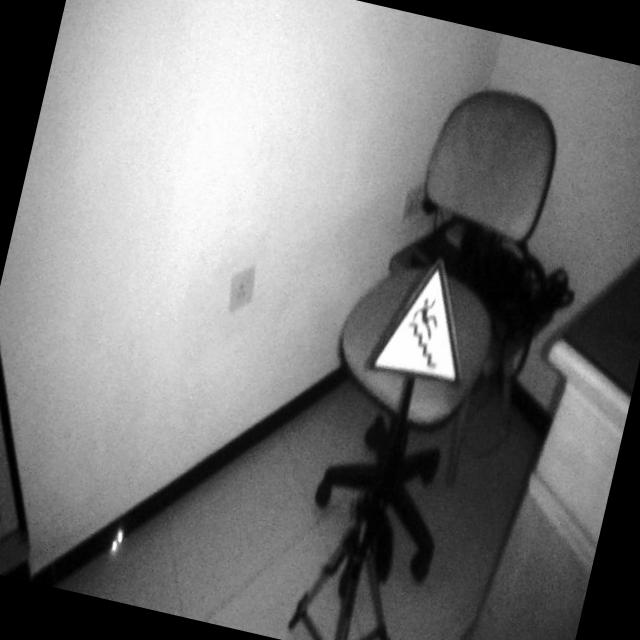Sign: (365, 245, 488, 392)
